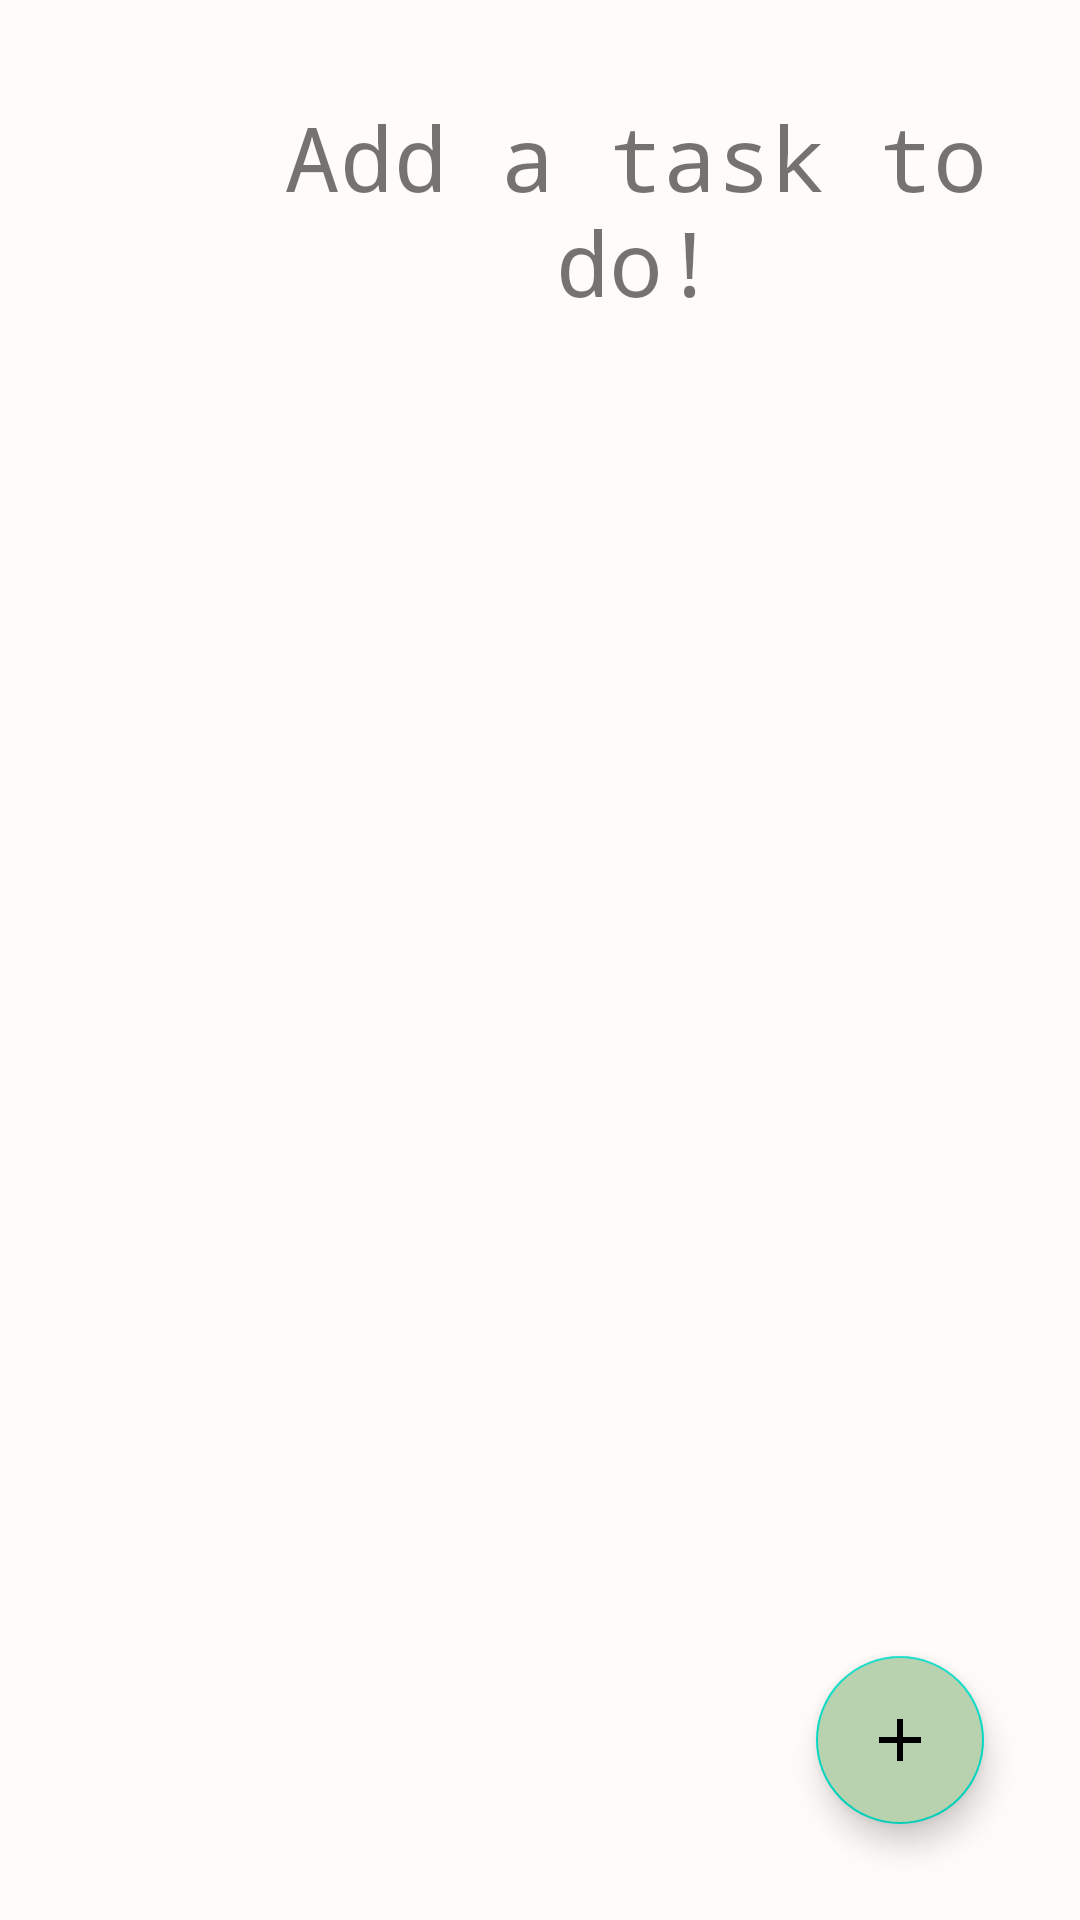

Named icons in this screenshot (1080px x 1920px) and their centers, (x,y):
adding a new task: (900,1740)
